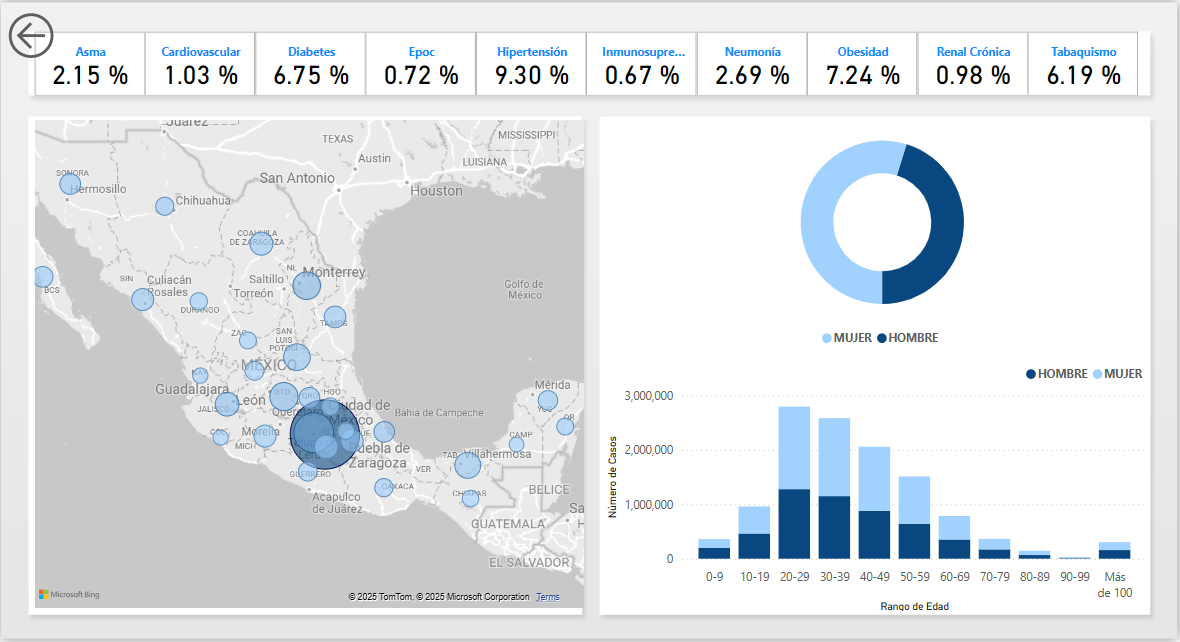

What the dashboard file says about the page in this screenshot:
{"tool":"powerbi","page":{"name":"Negativos","canvas":[1280,720],"ordinal":2},"visuals":[{"type":"map","fields":{"Category":["T_ENTIDADES.ENTIDAD_FEDERATIVA"],"Size":["Acumulados.Negativos Acumulados"]},"box":[57.9,140.4,582.5,519.3],"z":0},{"type":"columnChart","fields":{"Category":["public covid19datos.Rango de Edad"],"Series":["T_SEXO.DESCRIPCIÓN"],"Y":["Acumulados.Negativos Acumulados"]},"box":[654.4,391.2,571.9,271.9],"z":1000},{"type":"donutChart","fields":{"Category":["T_SEXO.DESCRIPCIÓN"],"Y":["Acumulados.Negativos Acumulados"]},"box":[654.4,140.4,582.5,250.9],"z":2000},{"type":"cardVisual","fields":{"Data":["% Negativos.% Asma Negativos","% Negativos.% cardiovascular Negativos","% Negativos.% diabetes Negativos","% Negativos.% epoc Negativos","% Negativos.% hipertension Negativos","% Negativos.% inmusupr Negativos","% Negativos.% neumonia Negativos","% Negativos.% obesidad Negativos","% Negativos.% renal_cronica Negativos","% Negativos.% tabaquismo Negativos"]},"box":[57.9,49.1,1168.4,77.2],"z":4000},{"type":"actionButton","box":[29.8,28.1,114,59.6],"z":4500}]}

Visuals, with their boxes on the page's 1280x720 design canvas (x1, y1, x2, y2). These are canvas units, not pixel positions in the 1180x642 screenshot, which may show the page scaled, cropped or inside an application window:
map - T_ENTIDADES.ENTIDAD_FEDERATIVA x Acumulados.Negativos Acumulados: (58,140,640,660)
columnChart - public covid19datos.Rango de Edad x T_SEXO.DESCRIPCIÓN: (654,391,1226,663)
donutChart - T_SEXO.DESCRIPCIÓN x Acumulados.Negativos Acumulados: (654,140,1237,391)
cardVisual - % Negativos.% Asma Negativos x % Negativos.% cardiovascular Negativos: (58,49,1226,126)
actionButton: (30,28,144,88)
